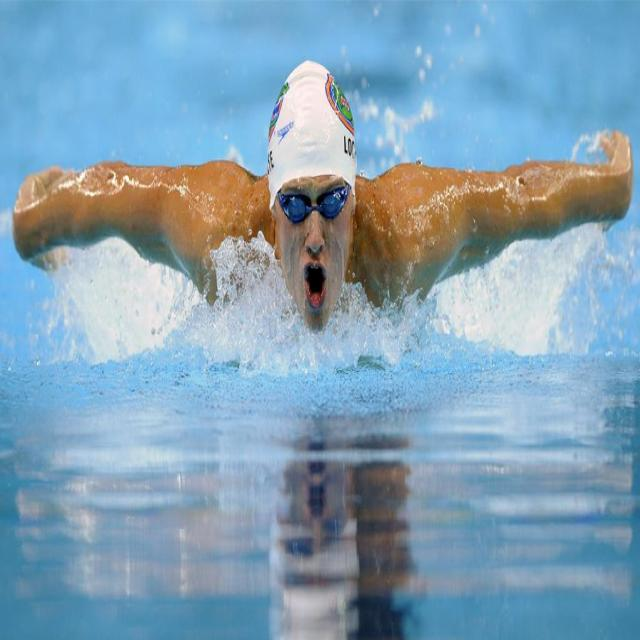Face: (276, 155, 358, 338)
